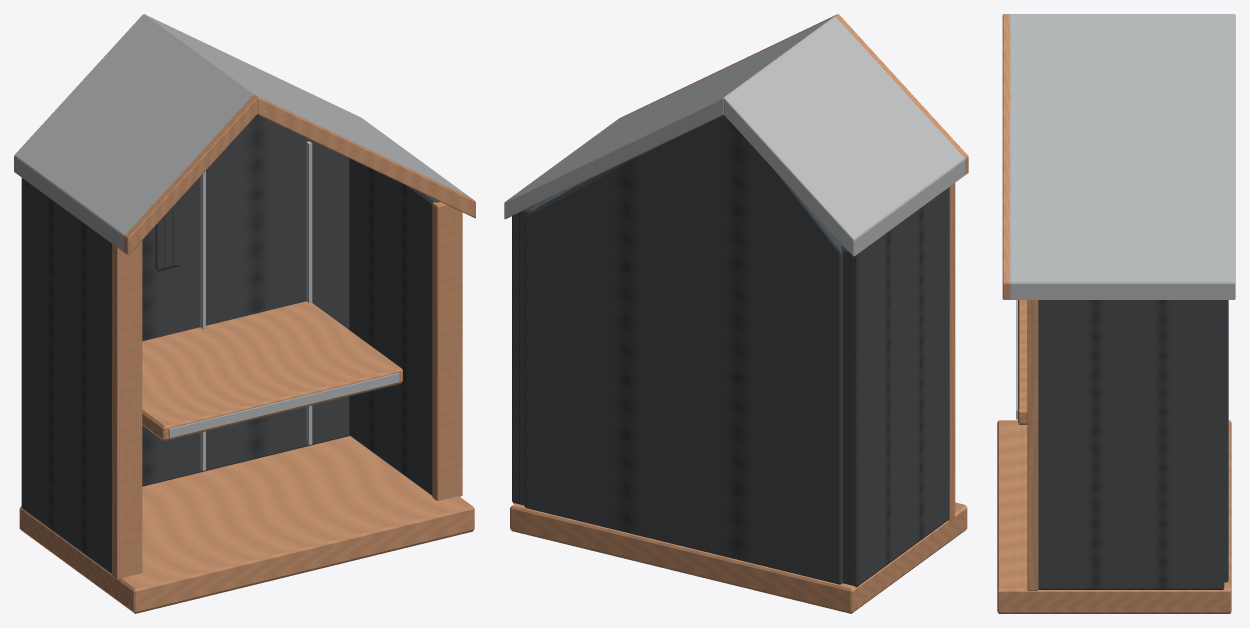
The model's file is balanced.glb.
3 renders of one model, left to right at view 1: azimuth 30°, elevation 25°; view 2: azimuth 150°, elevation 25°; view 3: azimuth 270°, elevation 25°, orthographic.
Visible parts, largest first — view 1: Cork base and side cheeks, Graphite felt lining, Asymmetric nickel gable, Floating handset shelf; view 2: Graphite felt lining, Cork base and side cheeks, Asymmetric nickel gable; view 3: Cork base and side cheeks, Asymmetric nickel gable, Floating handset shelf, Graphite felt lining.
Part boxes in pixels (x1,y1,x2,y2): Cork base and side cheeks: (19,158,474,613); Graphite felt lining: (142,114,349,486); Asymmetric nickel gable: (14,14,475,255); Floating handset shelf: (142,301,402,441); Graphite felt lining: (524,115,842,584); Cork base and side cheeks: (510,177,967,613); Asymmetric nickel gable: (504,14,968,256); Cork base and side cheeks: (997,300,1231,613); Asymmetric nickel gable: (1002,14,1235,299); Floating handset shelf: (1016,300,1027,424); Graphite felt lining: (1224,300,1228,582).
Size of the model in its own units: 2.15 by 2.86 by 1.25.
1 material, 1 textured.
